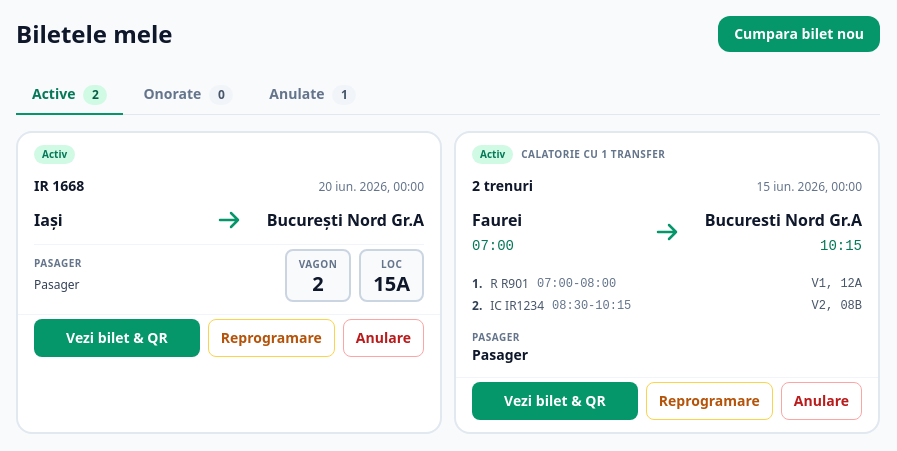
MyTickets › afiseaza numele pasagerului cand e setat (multi-pax)
The width and height of the screenshot is (897, 451).
Click the tab "Anulate 1". click: (313, 96)
box: [253,76,372,115]
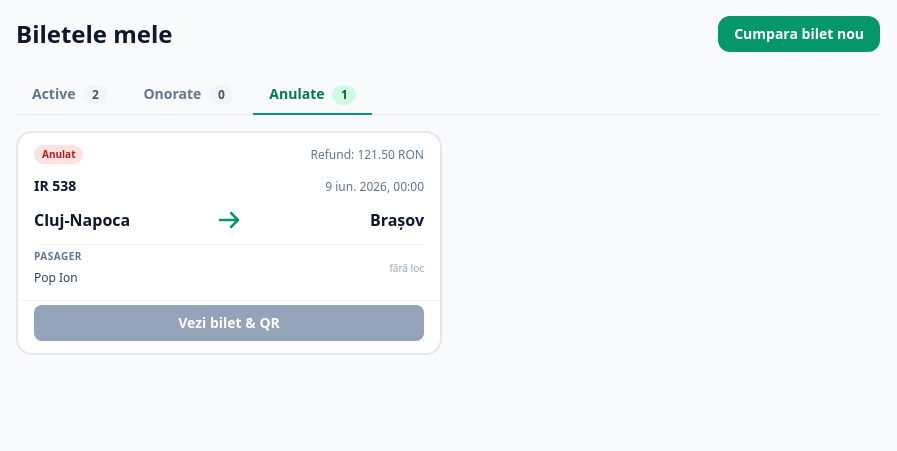
Expected: the text "PASAGER" is shown, [34,249,82,264]
Result: the text "Pop Ion" is shown at [34,269,78,286]
